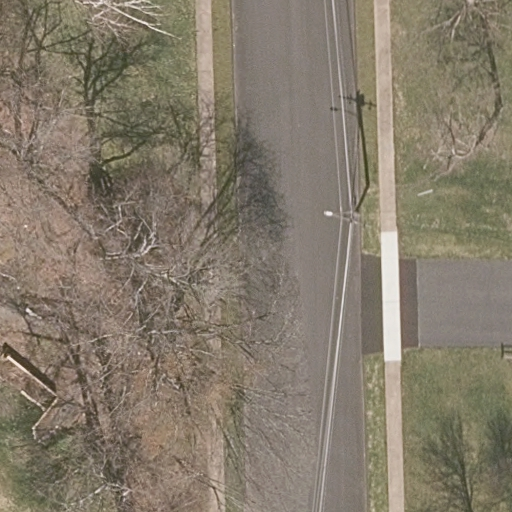DT: (323, 187, 375, 231)
